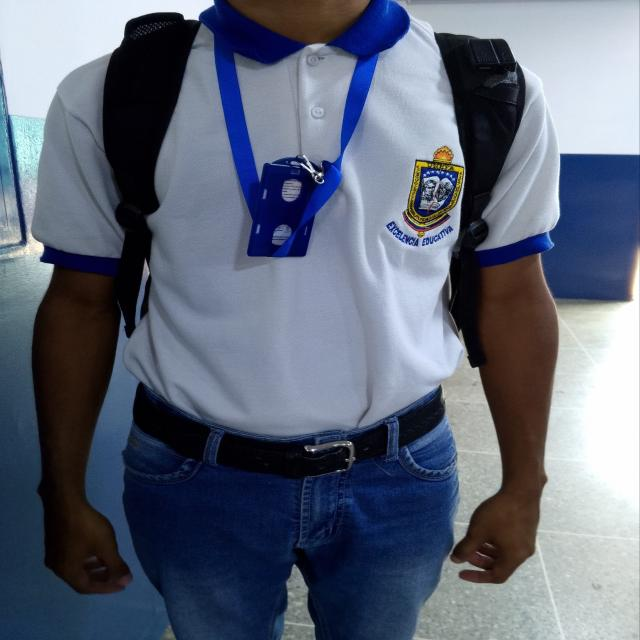carnet: (247, 157, 317, 258)
uniforme_superior: (29, 2, 560, 436)
